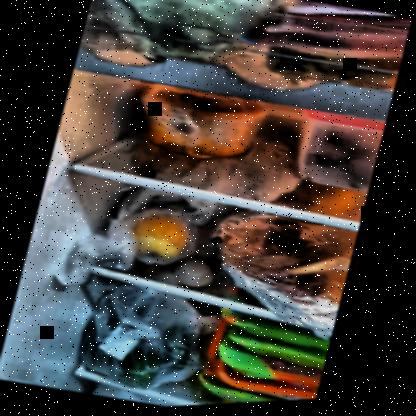chicken: (202, 307, 338, 406)
lemon: (128, 211, 197, 269)
